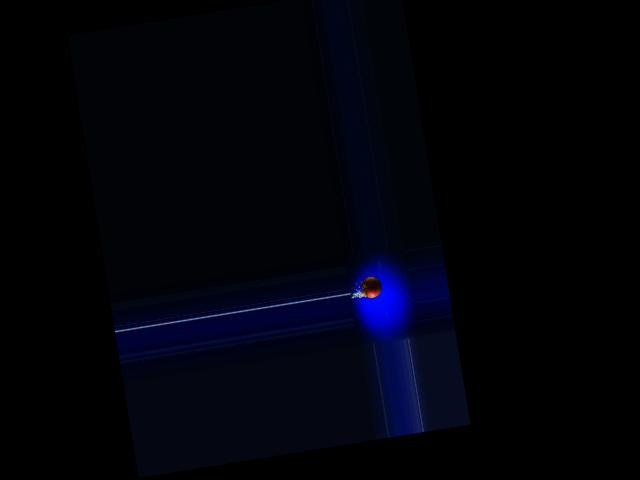tomato: (360, 274, 383, 299)
